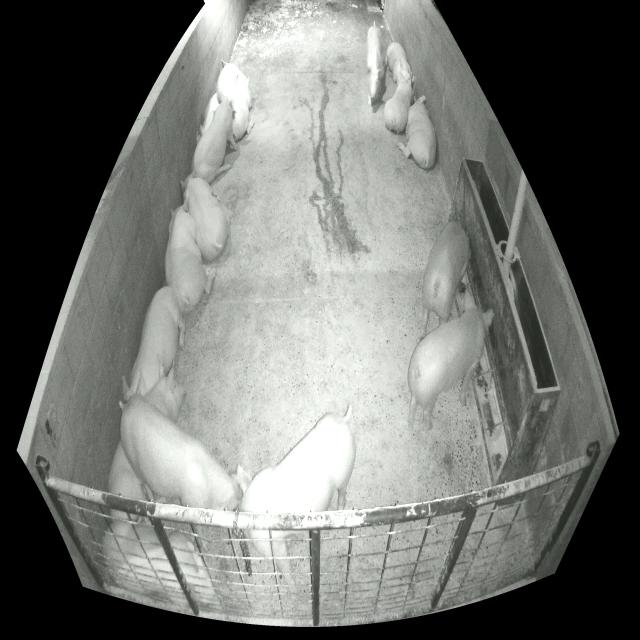pig: (237, 405, 357, 592), (119, 395, 243, 511), (408, 289, 494, 430), (109, 366, 184, 523), (103, 519, 215, 609), (122, 286, 186, 402), (418, 222, 470, 341), (165, 199, 206, 311), (190, 86, 236, 183), (180, 170, 228, 260), (217, 60, 254, 141), (397, 95, 436, 169), (384, 72, 414, 133), (366, 21, 385, 108), (384, 42, 411, 86), (200, 94, 218, 134)
